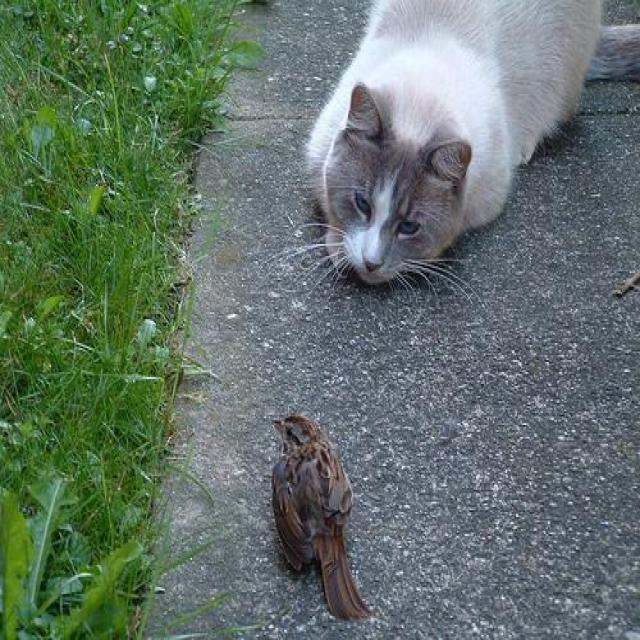brid: (235, 399, 374, 618)
cat: (315, 0, 525, 290)
